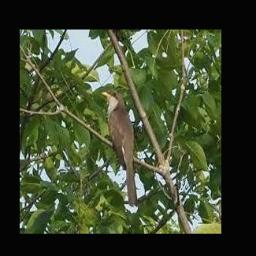Cuckoo: (101, 90, 138, 206)
